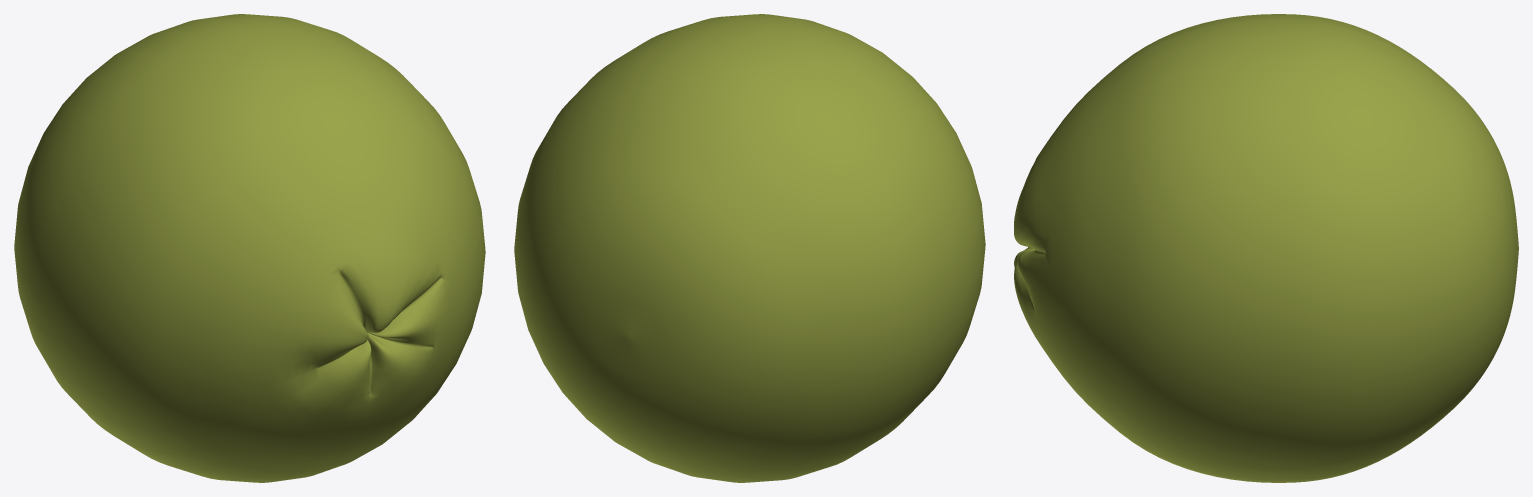
The model's file is OrangePeel.obj.
The picture shows the model from 3 angles, left to right: view 1: azimuth 30°, elevation 25°; view 2: azimuth 150°, elevation 25°; view 3: azimuth 270°, elevation 25°; orthographic projection.
Parts seen in each view (by area): view 1: OrangePeel; view 2: OrangePeel; view 3: OrangePeel.
Part boxes in pixels (x1=…): OrangePeel: x1=14, y1=14, x2=485, y2=482; OrangePeel: x1=514, y1=14, x2=985, y2=482; OrangePeel: x1=1014, y1=14, x2=1518, y2=482.
Bounding box in the file's own units: 0.0576 × 0.0576 × 0.062.
